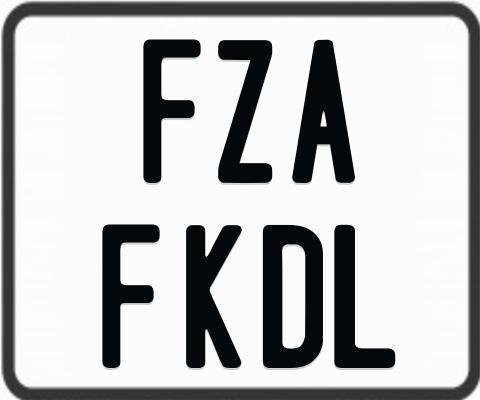A: (289, 40, 355, 187)
D: (261, 225, 321, 369)
F: (140, 36, 204, 186), (100, 221, 161, 370)
K: (185, 224, 245, 369)
L: (333, 225, 395, 369)
Z: (217, 39, 271, 184)
